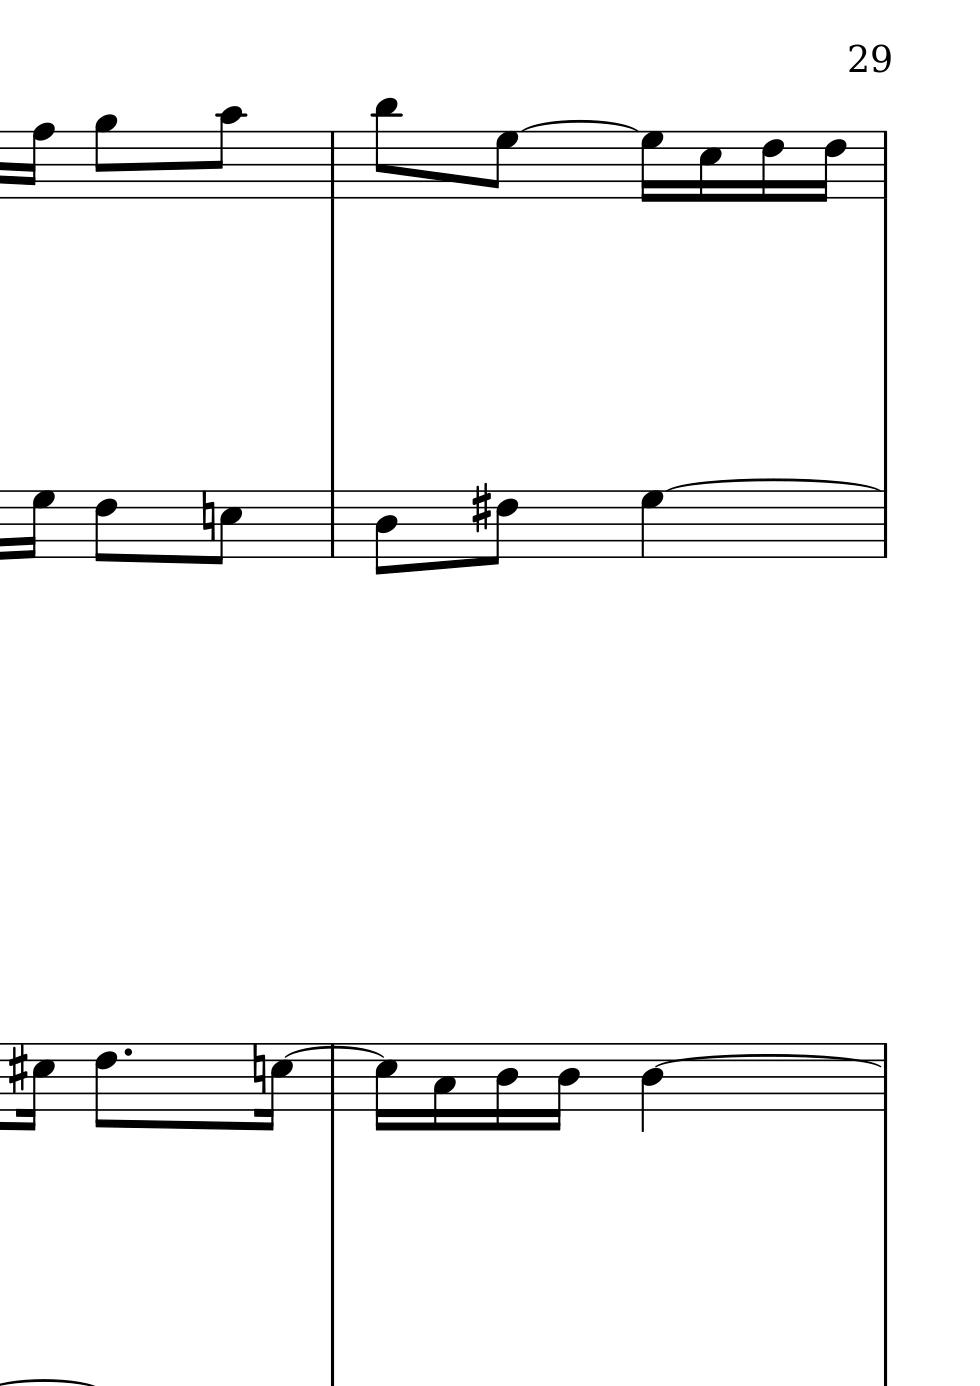16_3: (431, 1041, 457, 1134)
16_4: (548, 1041, 579, 1131), (493, 1041, 519, 1134)
16_5: (20, 1042, 55, 1131), (258, 1043, 292, 1134), (695, 129, 724, 205), (373, 1041, 398, 1133)
16_6: (812, 128, 847, 204), (759, 128, 786, 205)
16_7: (22, 488, 55, 561), (638, 129, 664, 206)
16_8: (20, 122, 53, 200)
2: (845, 43, 869, 74)
4_4: (638, 1042, 665, 1133)
4_7: (638, 488, 664, 559)
8_10: (208, 104, 242, 200)
8_11: (372, 95, 401, 201)
8_4: (372, 489, 398, 577)
8_5: (212, 488, 243, 567)
8_6: (486, 488, 519, 567), (93, 1041, 118, 1131), (92, 488, 118, 565)
8_7: (485, 129, 517, 200)
8_9: (92, 113, 118, 201)
9: (869, 42, 892, 74)
Natural: (251, 1042, 266, 1095), (202, 489, 215, 542)
Sharp: (5, 1042, 29, 1095), (469, 481, 492, 532)
Single_barline: (875, 492, 894, 558), (323, 1045, 342, 1112), (323, 131, 342, 198), (323, 491, 342, 556), (876, 131, 893, 198), (878, 1043, 892, 1111)
Slur: (668, 476, 887, 490), (654, 1054, 882, 1067), (286, 1043, 386, 1062), (525, 119, 638, 131)
dot: (121, 1045, 134, 1059)
